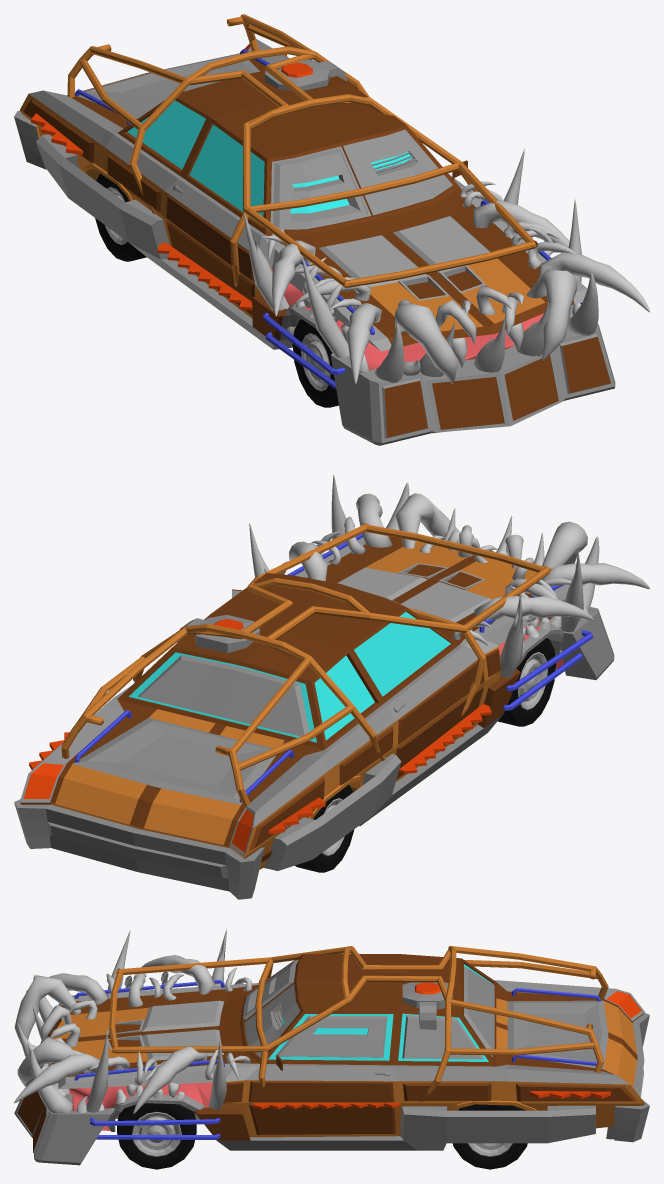
File: monstercar_v2.fbx
3 renders of one model, top to bottom at view 1: azimuth 30°, elevation 25°; view 2: azimuth 150°, elevation 25°; view 3: azimuth 270°, elevation 25°, orthographic. The views are drawn at different scales.
Visible parts, largest first — view 1: monster-car, ust_agız, alt_agız, on_tekerler, arka_tekerler; view 2: monster-car, ust_agız, alt_agız, on_tekerler, arka_tekerler; view 3: monster-car, ust_agız, alt_agız, on_tekerler, arka_tekerler.
Part boxes in pixels (x1,y1,x2,y2): monster-car: (14, 14, 537, 349); ust_agız: (259, 181, 649, 384); alt_agız: (244, 148, 615, 445); on_tekerler: (292, 319, 338, 407); arka_tekerler: (95, 173, 146, 261); monster-car: (14, 523, 551, 899); ust_agız: (264, 493, 649, 653); alt_agız: (249, 474, 614, 727); on_tekerler: (497, 638, 556, 726); arka_tekerler: (295, 784, 354, 872); monster-car: (109, 946, 649, 1150); ust_agız: (14, 955, 259, 1113); alt_agız: (14, 929, 250, 1165); on_tekerler: (117, 1103, 196, 1169); arka_tekerler: (452, 1104, 527, 1169).
Bounding box in the file's own units: 244 × 150 × 526.
